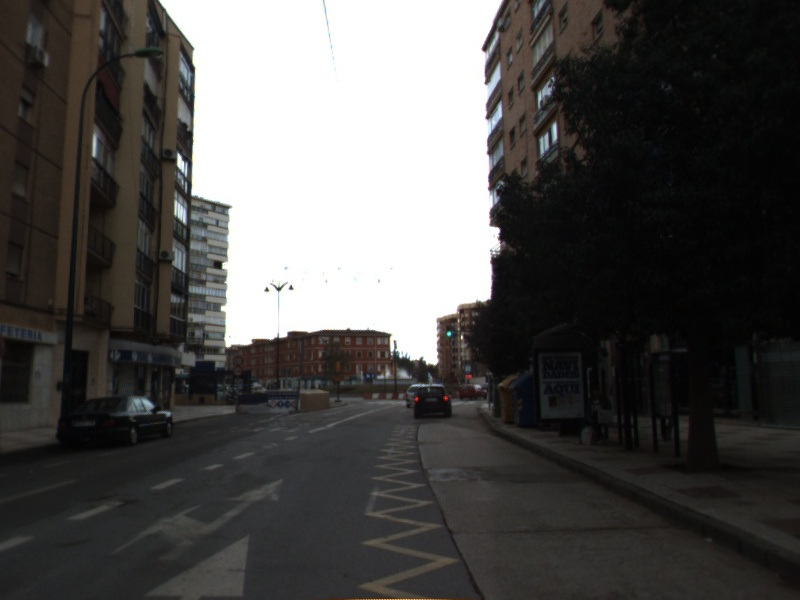STRAIGHT_LEFT: (105, 476, 284, 567)
